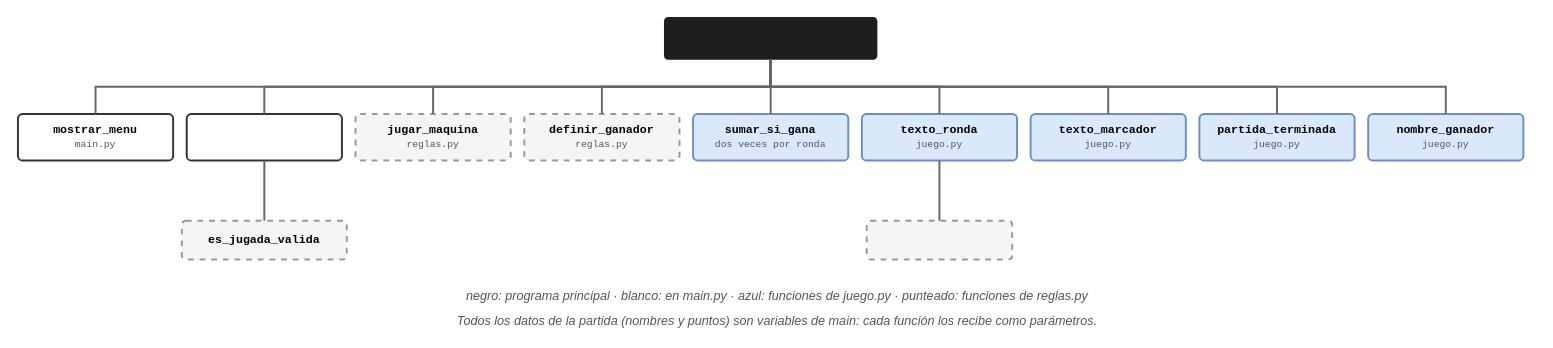
The diagram is 1553 pixels wide and 348 high, and some of its shapes have lost their labels. The shapes that lost their labels are listed below. From the top down, each one's centre as x and y in pixels, then its label:
At (x=770, y=37): "main (la partida)".
At (x=263, y=137): "leer_jugada main.py".
At (x=939, y=239): "nombre_jugada".
